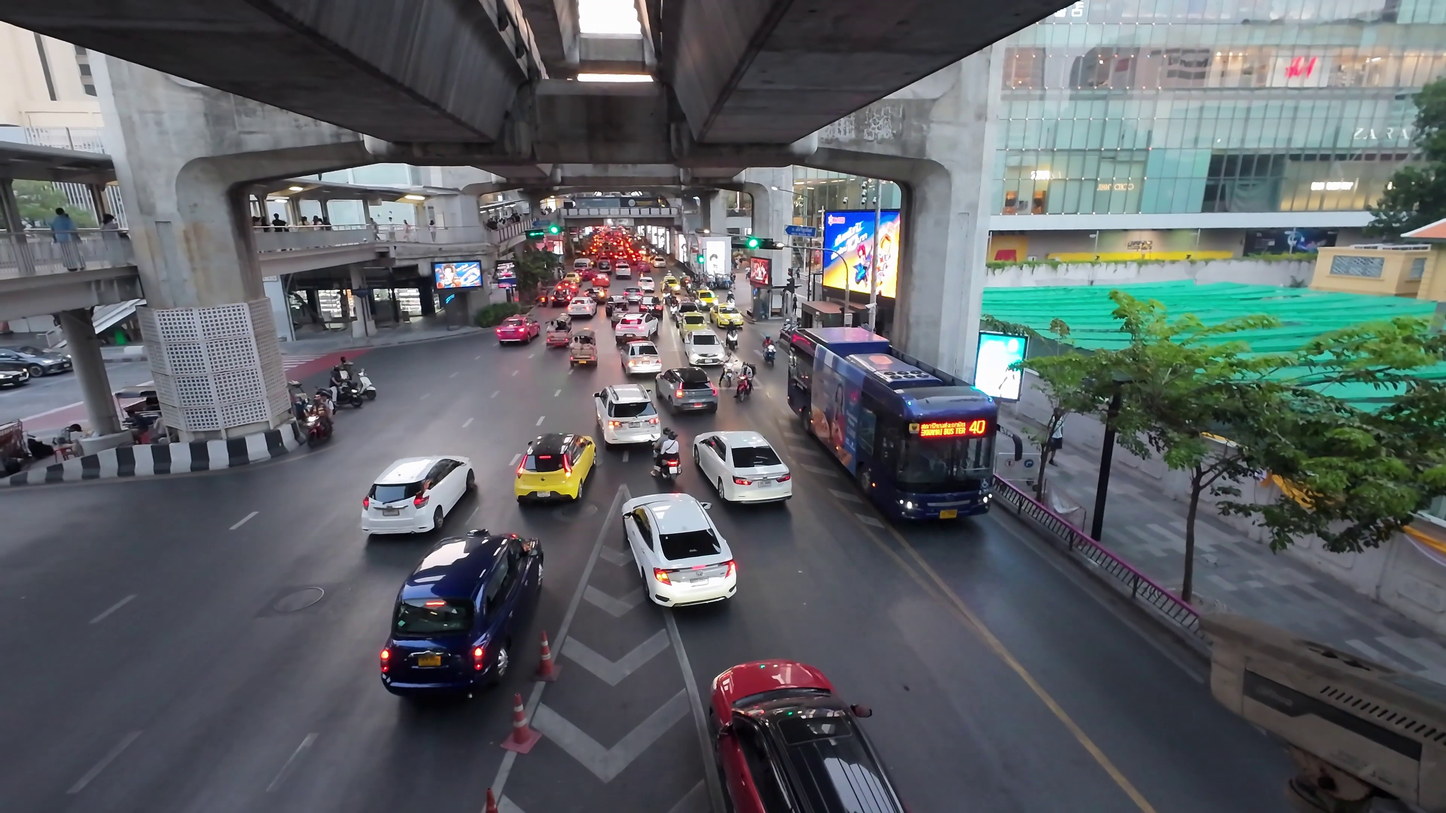license_plate: (839, 445, 947, 508), (757, 751, 854, 801), (420, 630, 503, 684), (652, 561, 710, 599), (748, 705, 828, 729), (389, 506, 447, 534), (718, 477, 768, 502), (534, 475, 577, 499), (612, 423, 645, 445), (668, 405, 702, 425), (305, 431, 324, 444), (506, 333, 528, 343), (8, 377, 24, 387)
motorcycle: (296, 393, 334, 447)
no_seatbelt: (818, 355, 969, 455), (738, 682, 874, 759), (403, 553, 520, 638), (640, 508, 721, 567), (732, 670, 844, 709), (377, 466, 459, 510), (708, 440, 778, 481), (525, 441, 586, 479), (605, 393, 652, 427), (661, 378, 708, 408), (502, 320, 532, 335), (5, 362, 27, 378)
